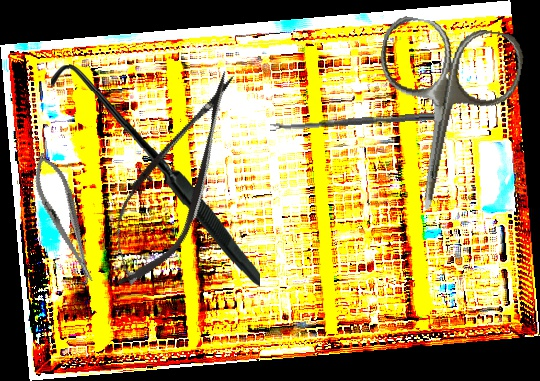Hook Surgical: (51, 61, 260, 292)
Iris Scissors: (355, 13, 528, 221)
Micro Scissor: (88, 56, 262, 302)
Needle Holder: (24, 147, 105, 289)
Surgical Spoon: (269, 111, 441, 131)
